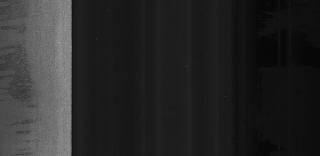water spot: (2, 3, 44, 151)
